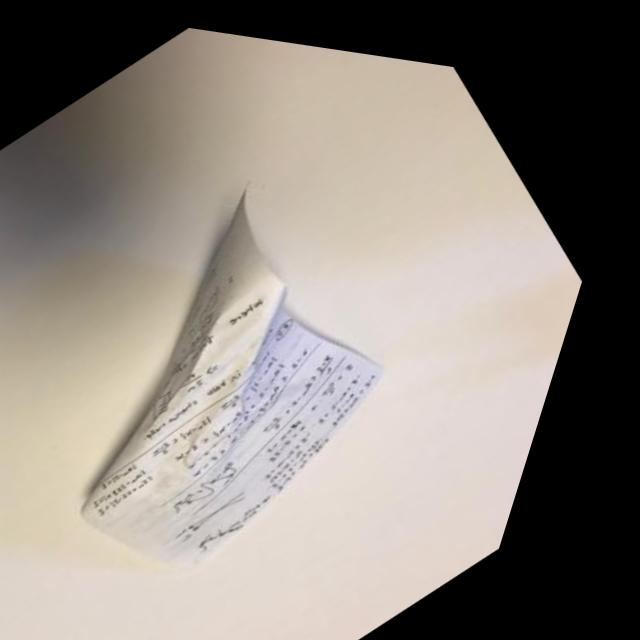paper: (0, 97, 530, 640)
